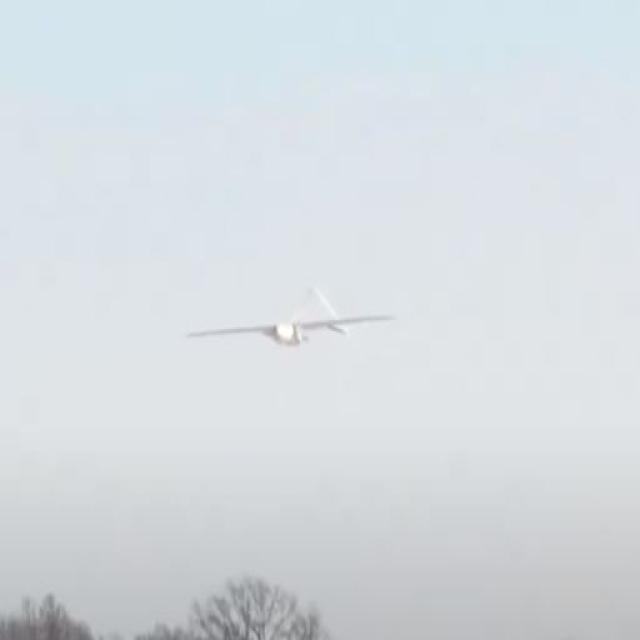iha: (187, 317, 398, 319)
